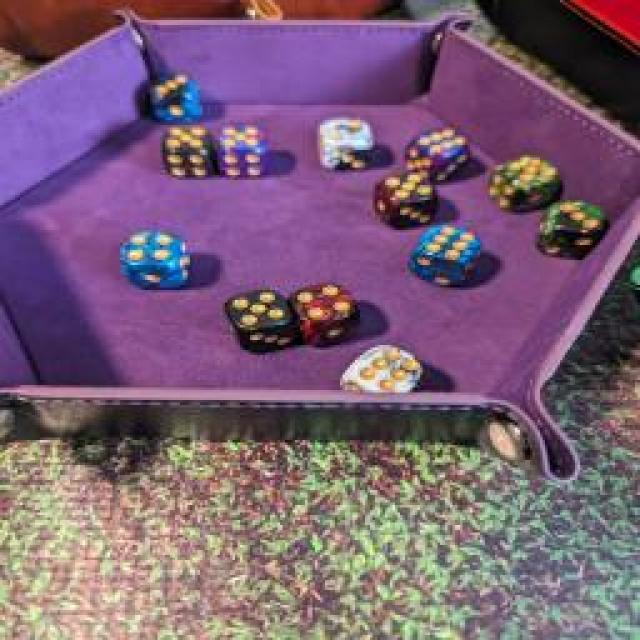dice_2: (306, 110, 382, 175)
dice_3: (531, 200, 614, 260), (145, 70, 213, 130)
dice_4: (116, 224, 196, 291)
dice_5: (285, 275, 367, 355), (366, 168, 449, 234), (216, 286, 302, 349), (492, 151, 568, 214), (214, 118, 278, 180), (155, 121, 217, 181)
dice_6: (328, 336, 434, 406), (410, 222, 485, 286), (402, 122, 472, 188)
